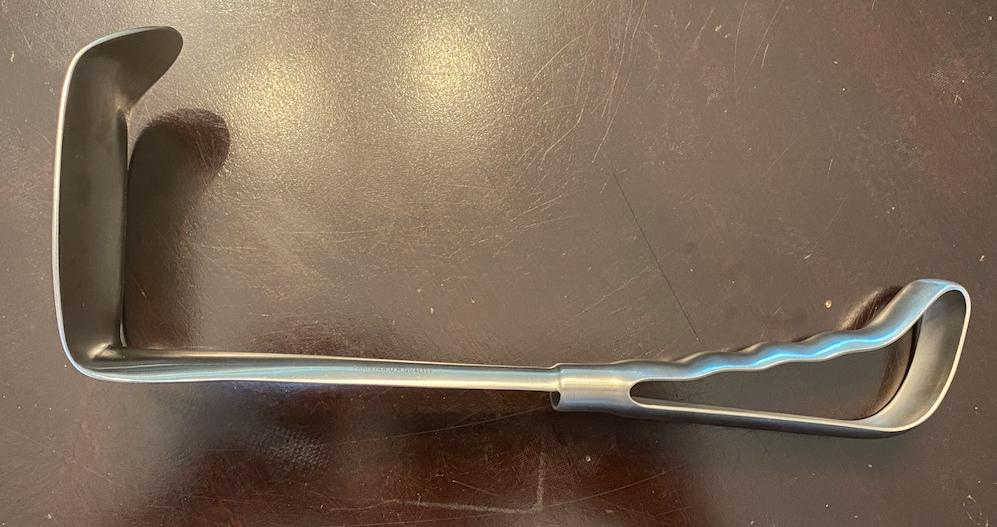Kelly Retractor: (48, 18, 975, 451)
